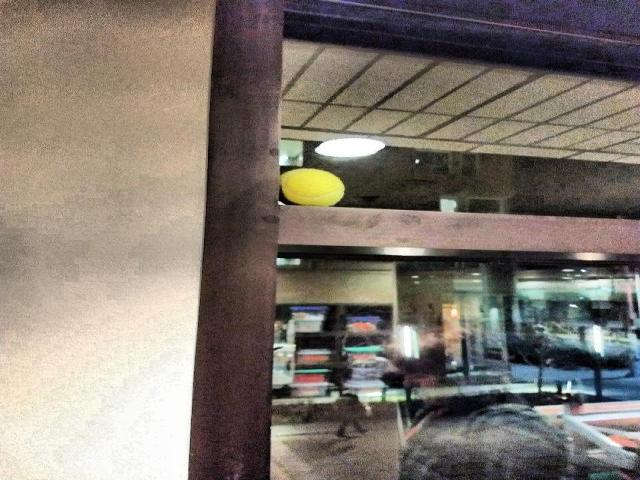tennis-ball: (280, 165, 345, 209)
